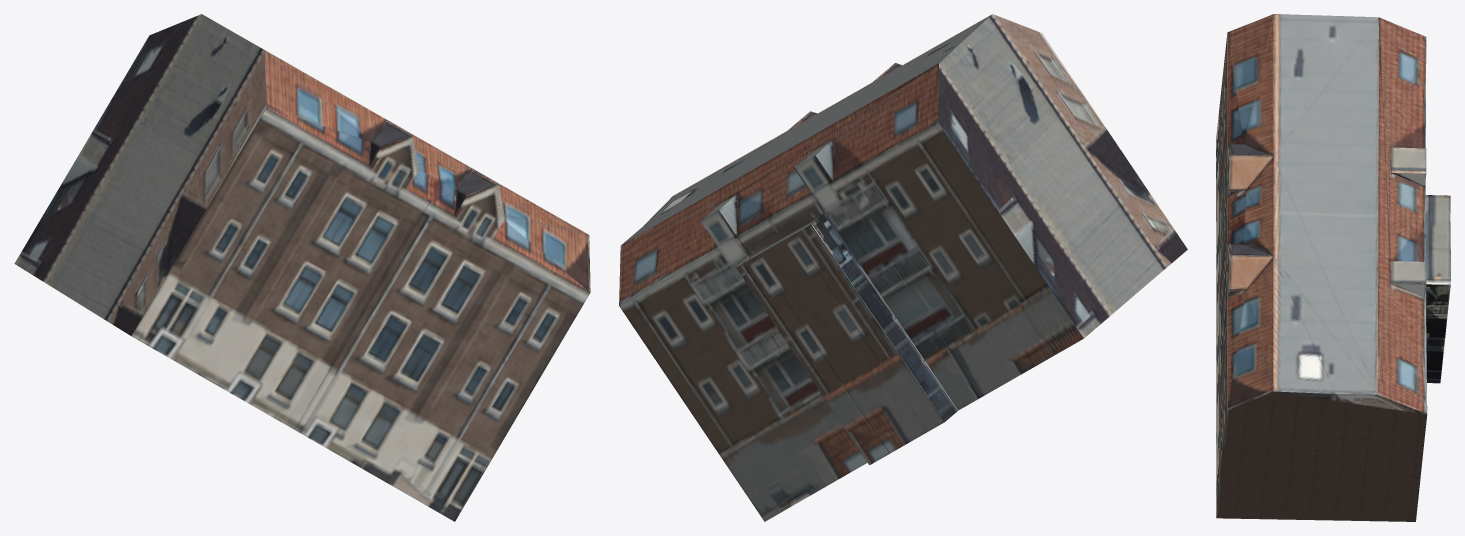
3 renders of one model, left to right at view 1: azimuth 30°, elevation 25°; view 2: azimuth 150°, elevation 25°; view 3: azimuth 270°, elevation 25°, orthographic. The views are drawn at different scales.
Parts seen in each view (by area): view 1: BAG_0599100000688733 (×5); view 2: BAG_0599100000688733 (×7); view 3: BAG_0599100000688733 (×8).
Part boxes in pixels (box(x1,y1,x2,y2)): BAG_0599100000688733 (×5): box(14, 14, 590, 521); BAG_0599100000688733 (×7): box(619, 14, 1187, 521); BAG_0599100000688733 (×8): box(1216, 14, 1450, 521).
Size of the model in its own units: 23.44 by 22.31 by 10.75.
9 materials, 9 textured.
